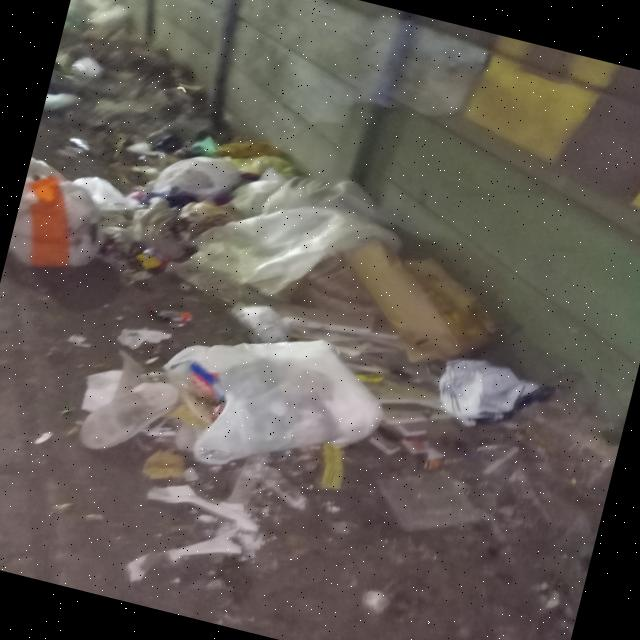garbage: (0, 97, 573, 611), (55, 0, 266, 140)
